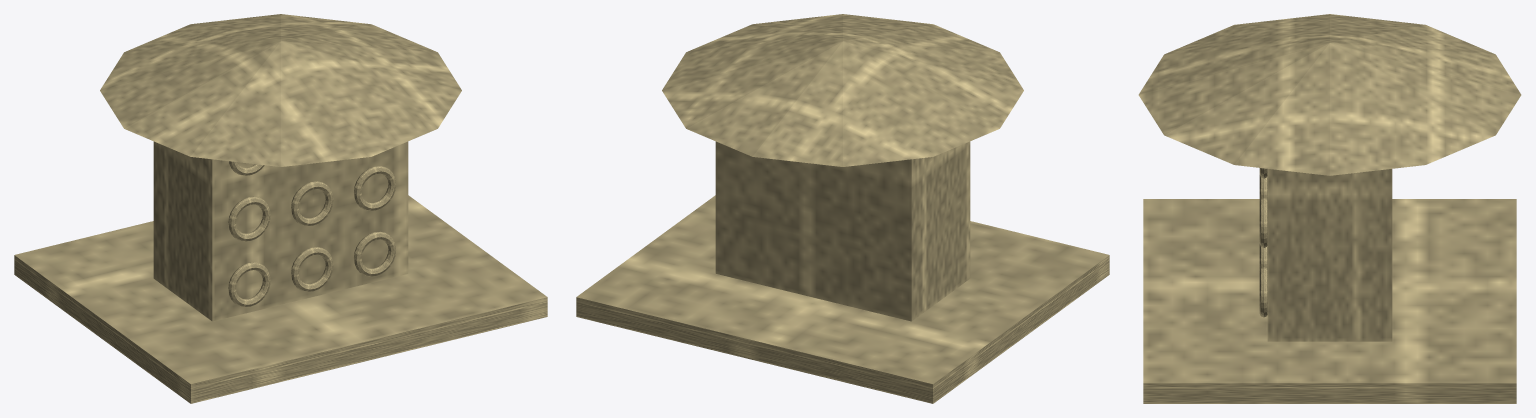
File: bone_ossuary_02.glb
3 views of the same model, side by side, from view 1: azimuth 30°, elevation 25°; view 2: azimuth 150°, elevation 25°; view 3: azimuth 270°, elevation 25° (orthographic). The views are drawn at different scales.
Parts seen in each view (by area): view 1: Foundation, Roof, Ossuary, AncestorSeal, AncestorSeal.001, AncestorSeal.003, AncestorSeal.006, AncestorSeal.004, AncestorSeal.007; view 2: Foundation, Roof, Ossuary; view 3: Foundation, Roof, Ossuary, AncestorSeal.006, AncestorSeal.007.
Boxes of the visible parts, bbox=[...] form: Foundation: bbox=[14, 195, 547, 403]; Roof: bbox=[100, 14, 461, 166]; Ossuary: bbox=[153, 141, 408, 321]; AncestorSeal: bbox=[228, 262, 270, 306]; AncestorSeal.001: bbox=[228, 196, 270, 241]; AncestorSeal.003: bbox=[291, 247, 333, 291]; AncestorSeal.006: bbox=[354, 231, 396, 276]; AncestorSeal.004: bbox=[291, 181, 333, 225]; AncestorSeal.007: bbox=[354, 166, 396, 210]; Foundation: bbox=[576, 195, 1109, 403]; Roof: bbox=[662, 14, 1023, 166]; Ossuary: bbox=[715, 141, 970, 321]; Foundation: bbox=[1143, 199, 1516, 403]; Roof: bbox=[1138, 14, 1521, 175]; Ossuary: bbox=[1267, 169, 1392, 341]; AncestorSeal.006: bbox=[1259, 267, 1267, 317]; AncestorSeal.007: bbox=[1259, 197, 1267, 247].
Size of the model in its own units: 4.55 by 3.1 by 4.
Materials: 1 (1 with a texture image).
